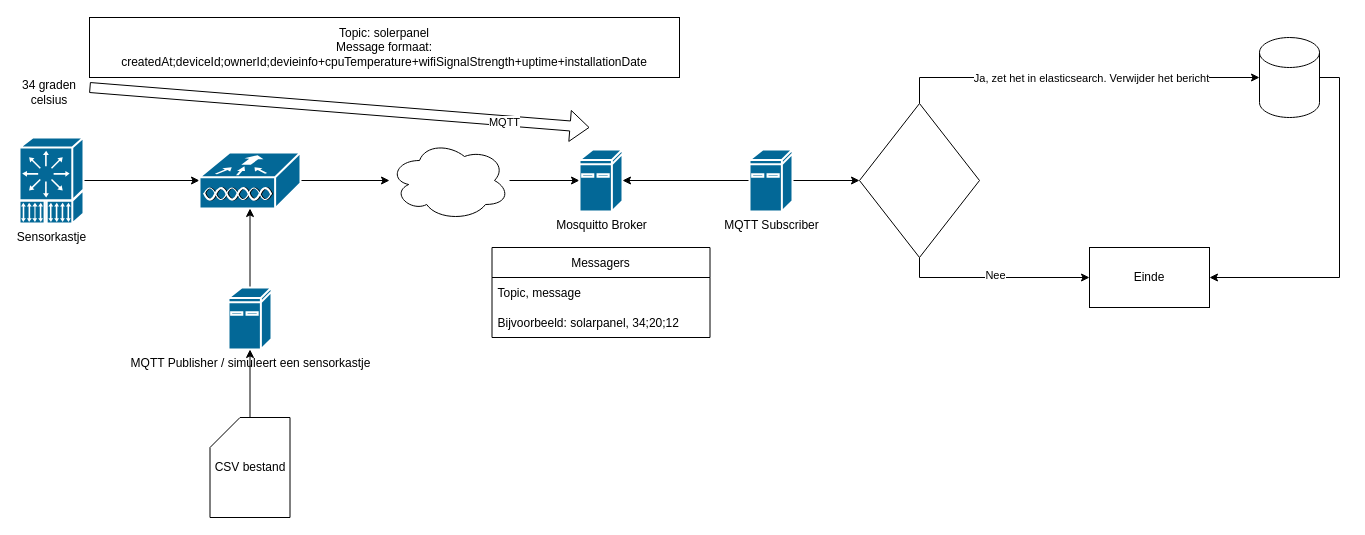
Some shapes in this 1365 by 535 pixel diagram are drawn without their labels. Here are the shapes that lost their labels. From the top down, the centre of each, then its label:
pixel 1289 77: ElasticSearch
pixel 249 180: WiFi netwerk
pixel 449 180: Internet
pixel 919 180: Is er een nieuw bericht met als topic "solarpanel"?
